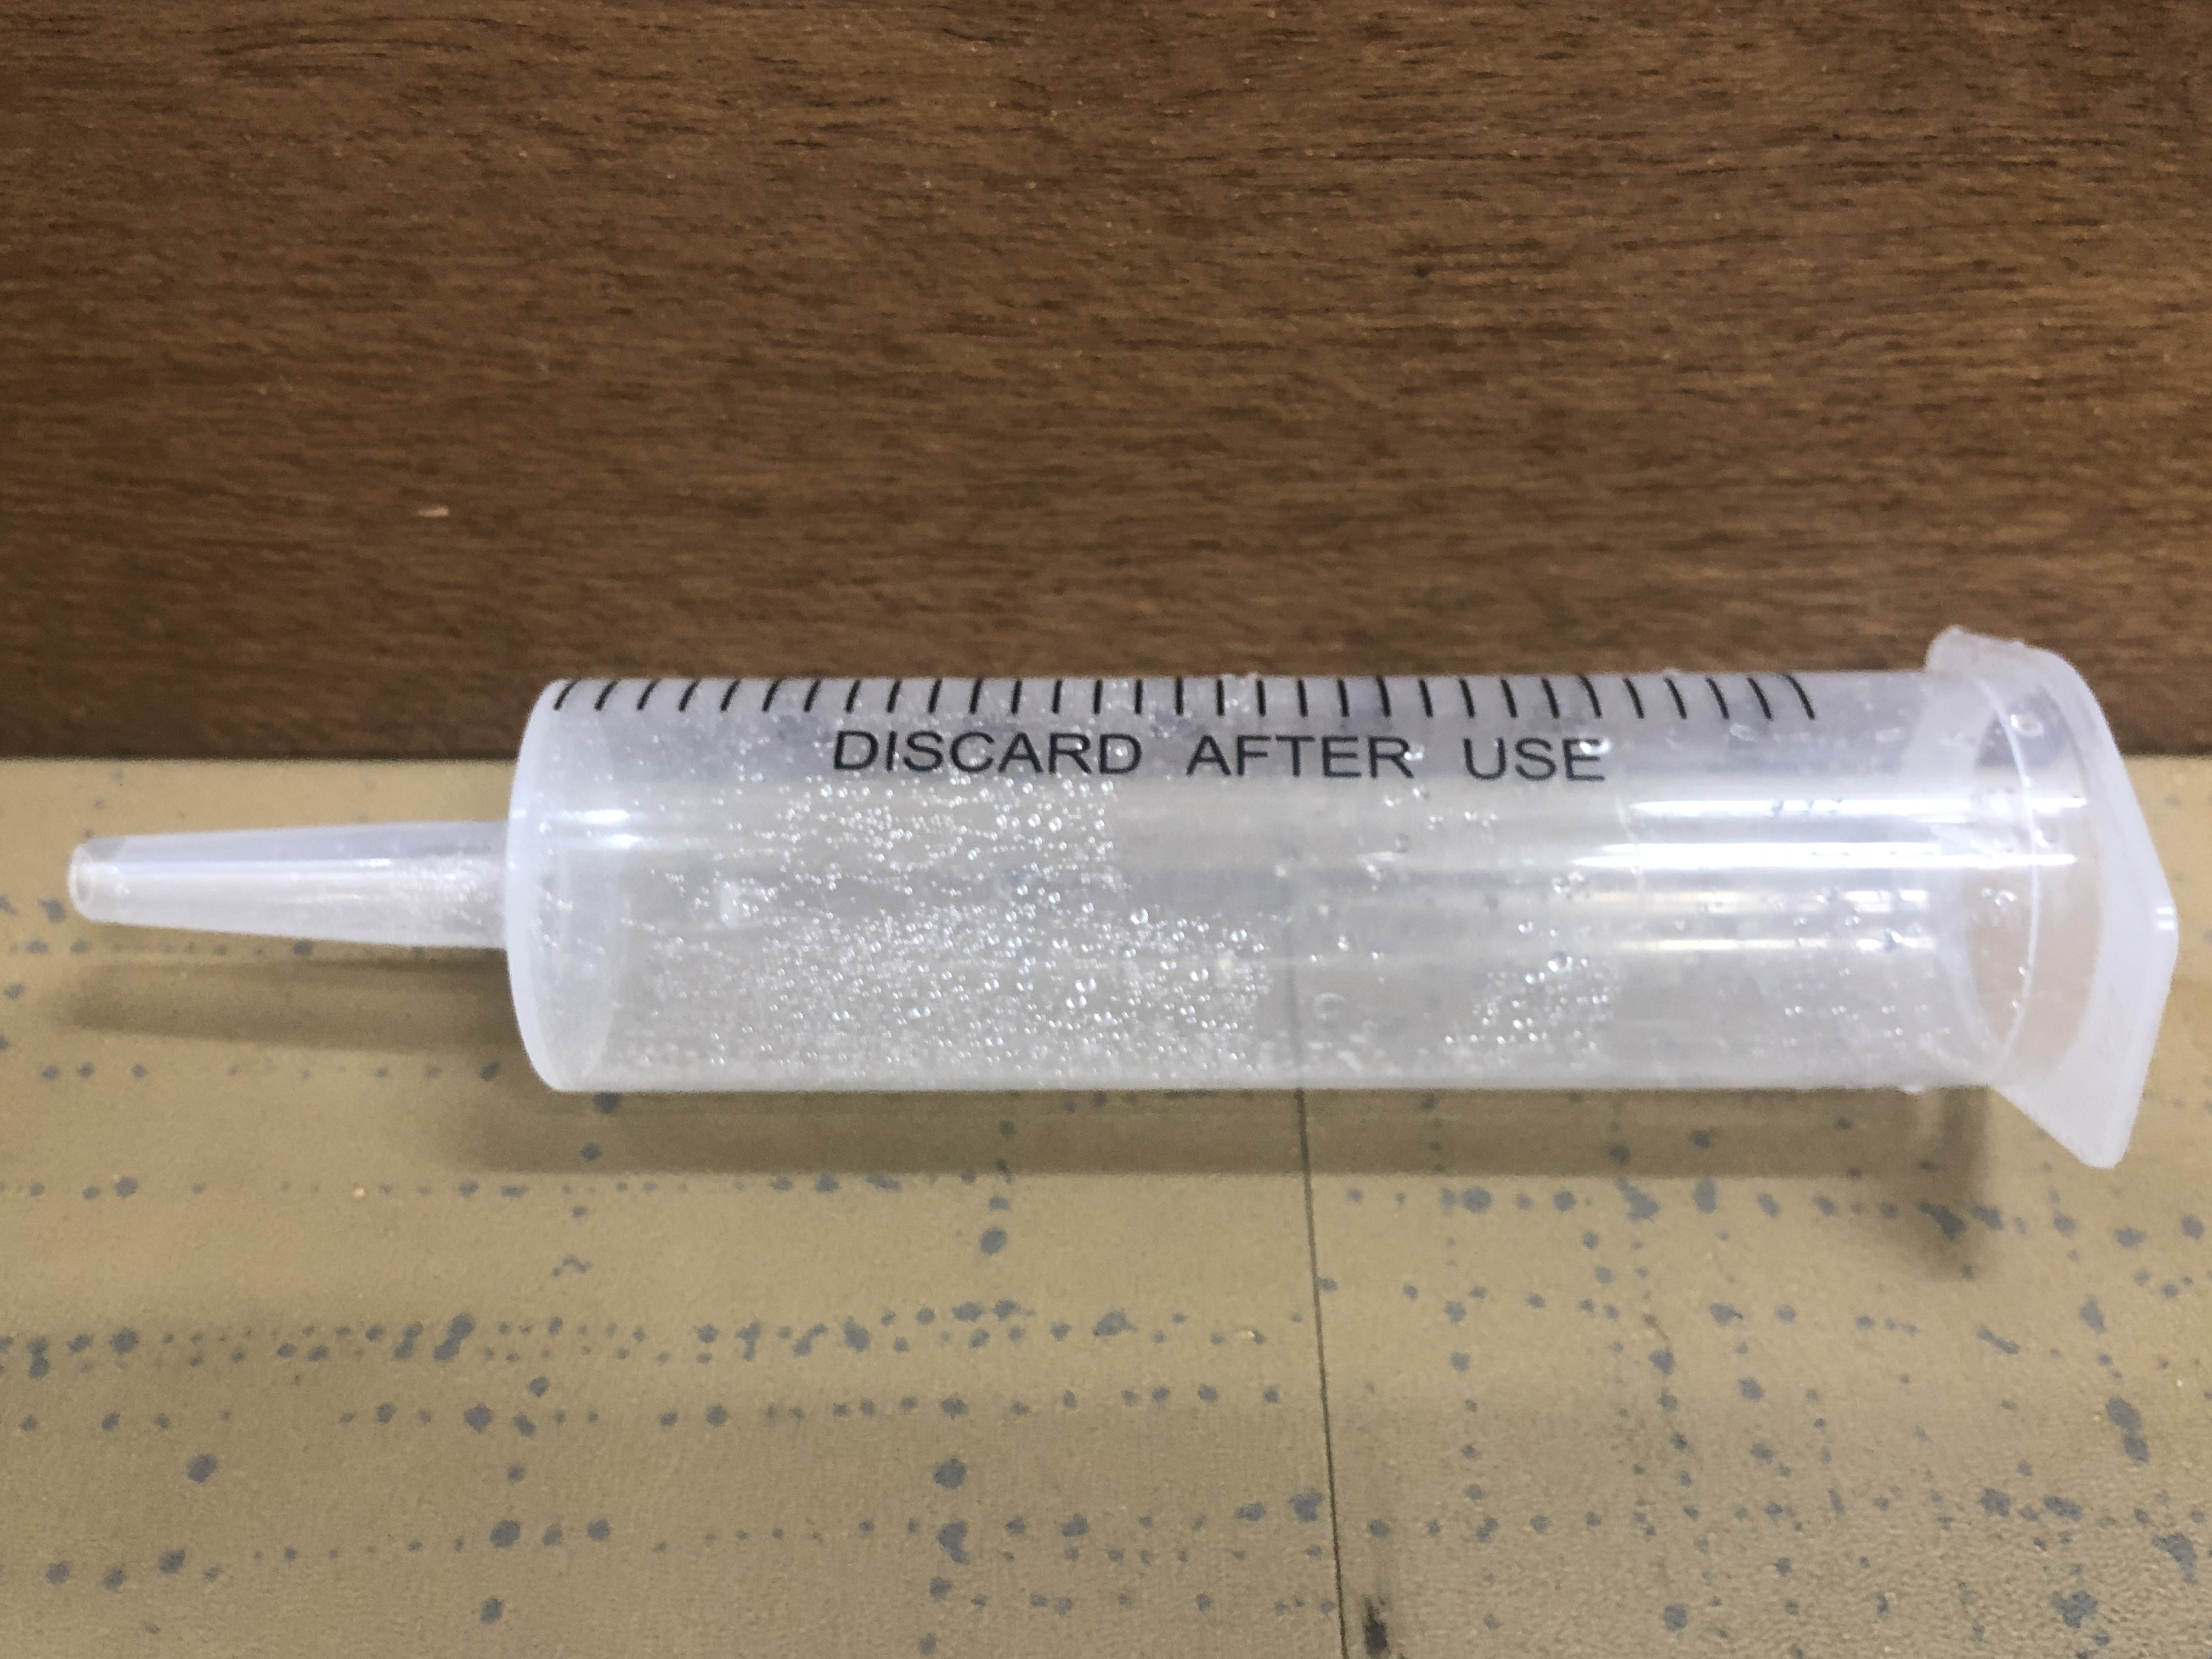syringe: (61, 620, 2182, 1182)
